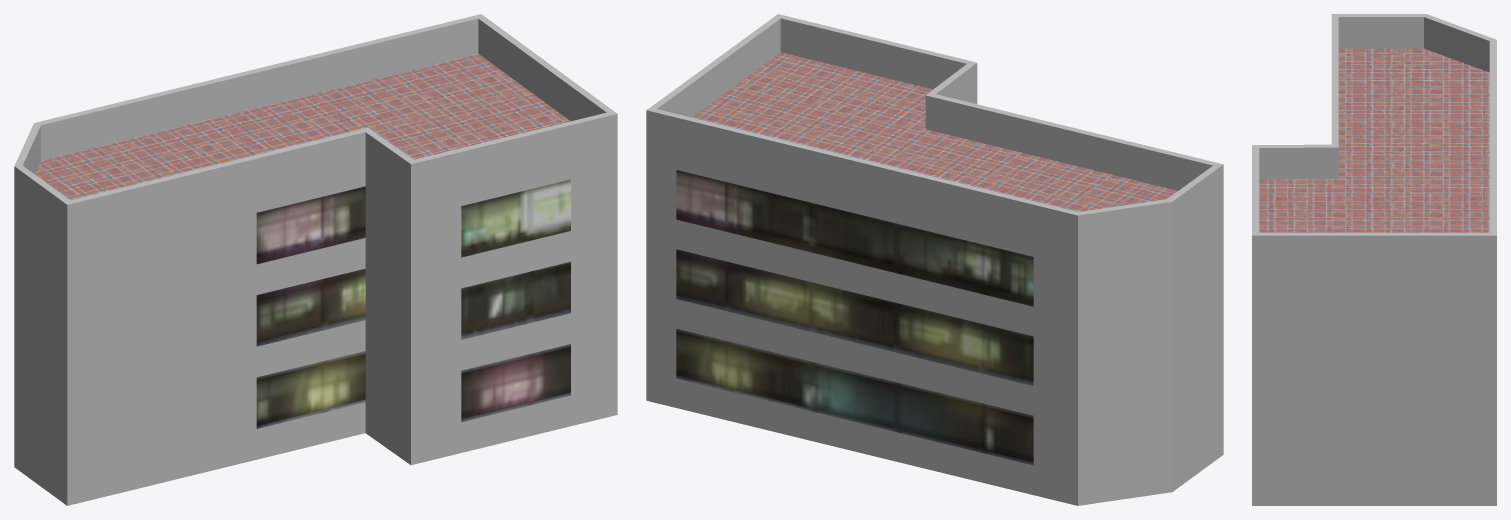
Rendered from hirise_parts03_3f.fbx.
3 views of the same model, side by side, from view 1: azimuth 30°, elevation 25°; view 2: azimuth 150°, elevation 25°; view 3: azimuth 270°, elevation 25° (orthographic). The views are drawn at different scales.
Visible parts, largest first — view 1: hirise_parts03_3f; view 2: hirise_parts03_3f; view 3: hirise_parts03_3f.
Boxes of the visible parts, <box> form: hirise_parts03_3f: <box>14,14,617,505</box>; hirise_parts03_3f: <box>646,14,1223,505</box>; hirise_parts03_3f: <box>1252,14,1496,505</box>.
Size of the model in its own units: 19.92 by 11.33 by 9.3.
